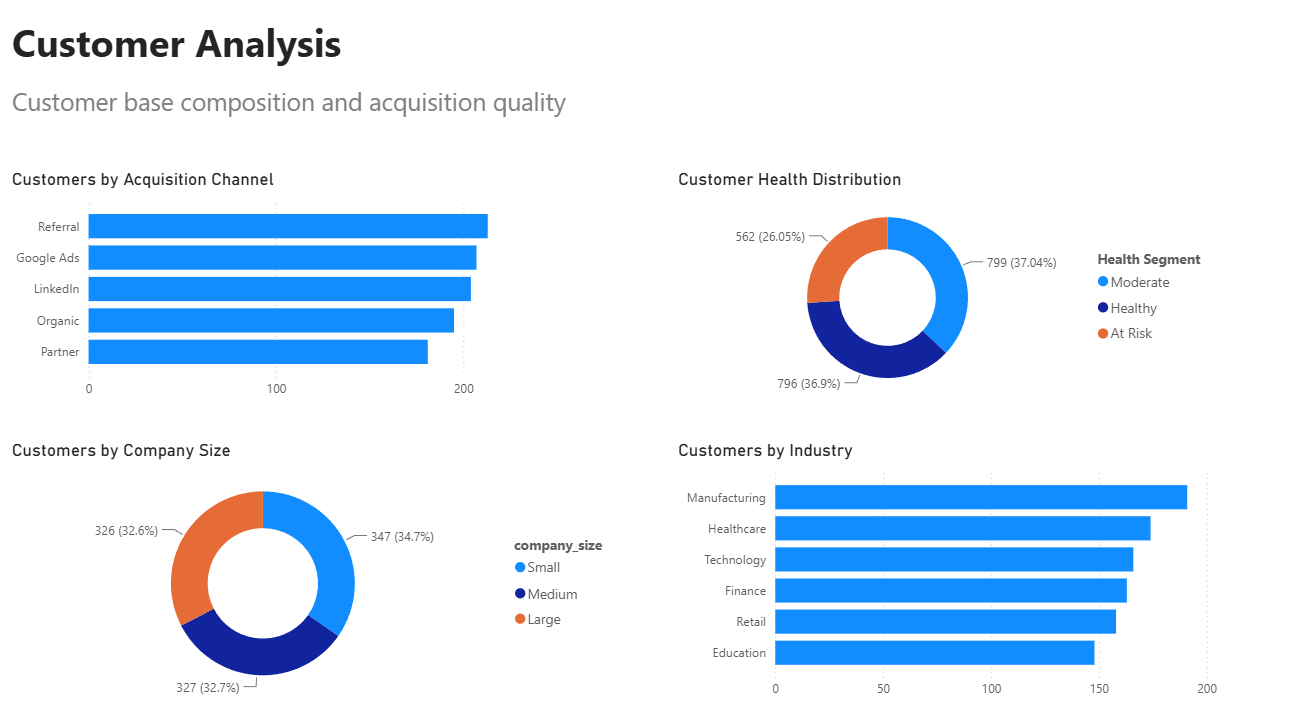

The dashboard page shown, as its layout file describes it:
{"tool":"powerbi","page":{"name":"Customer Analysis","canvas":[1280,720],"ordinal":1},"visuals":[{"type":"textbox","box":[10,15.7,365.7,67.1],"z":0},{"type":"textbox","box":[10,82.9,604.3,47.1],"z":1000},{"type":"barChart","title":"Customers by Acquisition Channel","fields":{"Category":["customers_clean.acquisition_channel"],"Y":["Measures (2).Total Customers"]},"box":[10,170,553.3,233.3],"z":2000},{"type":"donutChart","title":"Customer Health Distribution","fields":{"Category":["product_usage_clean.Health Segment"],"Y":["Count(product_usage_clean.customer_id)"]},"box":[661.7,170,536.7,233.3],"z":3000},{"type":"donutChart","title":"Customers by Company Size","fields":{"Category":["customers_clean.company_size"],"Y":["Measures (2).Total Customers"]},"box":[10,435,605,261.7],"z":4000},{"type":"barChart","title":"Customers by Industry","fields":{"Category":["customers_clean.industry"],"Y":["Measures (2).Total Customers"]},"box":[662,435,537,262],"z":5000}]}

Visuals, with their boxes in screenshot pixels (x1, y1, x2, y2), scaled from the page's 1280x720 canvas onto the 1301x725 screenshot:
textbox: (10,16,382,83)
textbox: (10,83,624,131)
"Customers by Acquisition Channel" barChart: (10,171,573,406)
"Customer Health Distribution" donutChart: (673,171,1218,406)
"Customers by Company Size" donutChart: (10,438,625,702)
"Customers by Industry" barChart: (673,438,1219,702)
